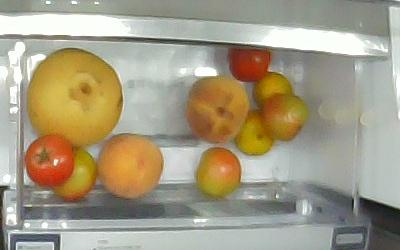peach: (96, 134, 163, 200), (188, 75, 250, 142)
pear: (27, 46, 124, 147)
tangerine: (233, 114, 275, 154), (254, 72, 293, 105)
tomato: (51, 147, 96, 202), (258, 93, 307, 143), (27, 134, 74, 186), (194, 148, 242, 195), (228, 46, 271, 82)
